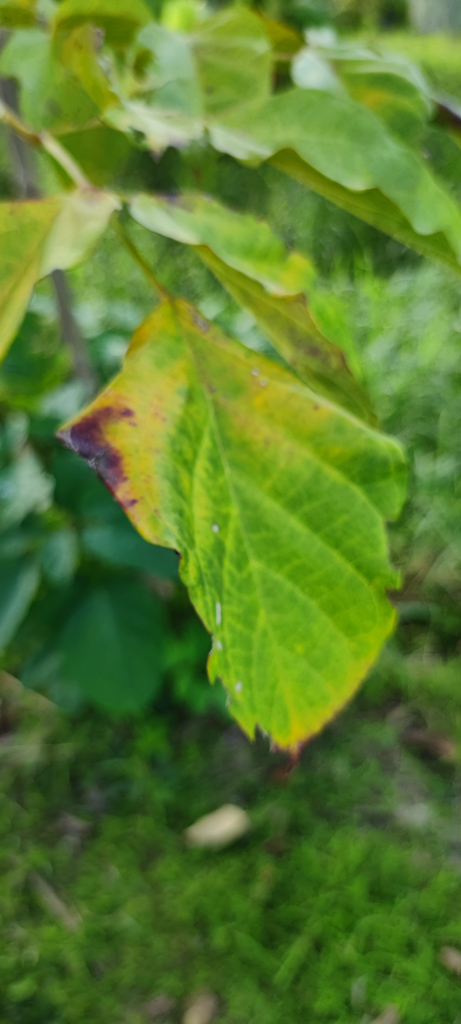Pepper yellow leaf: (61, 307, 402, 770)
